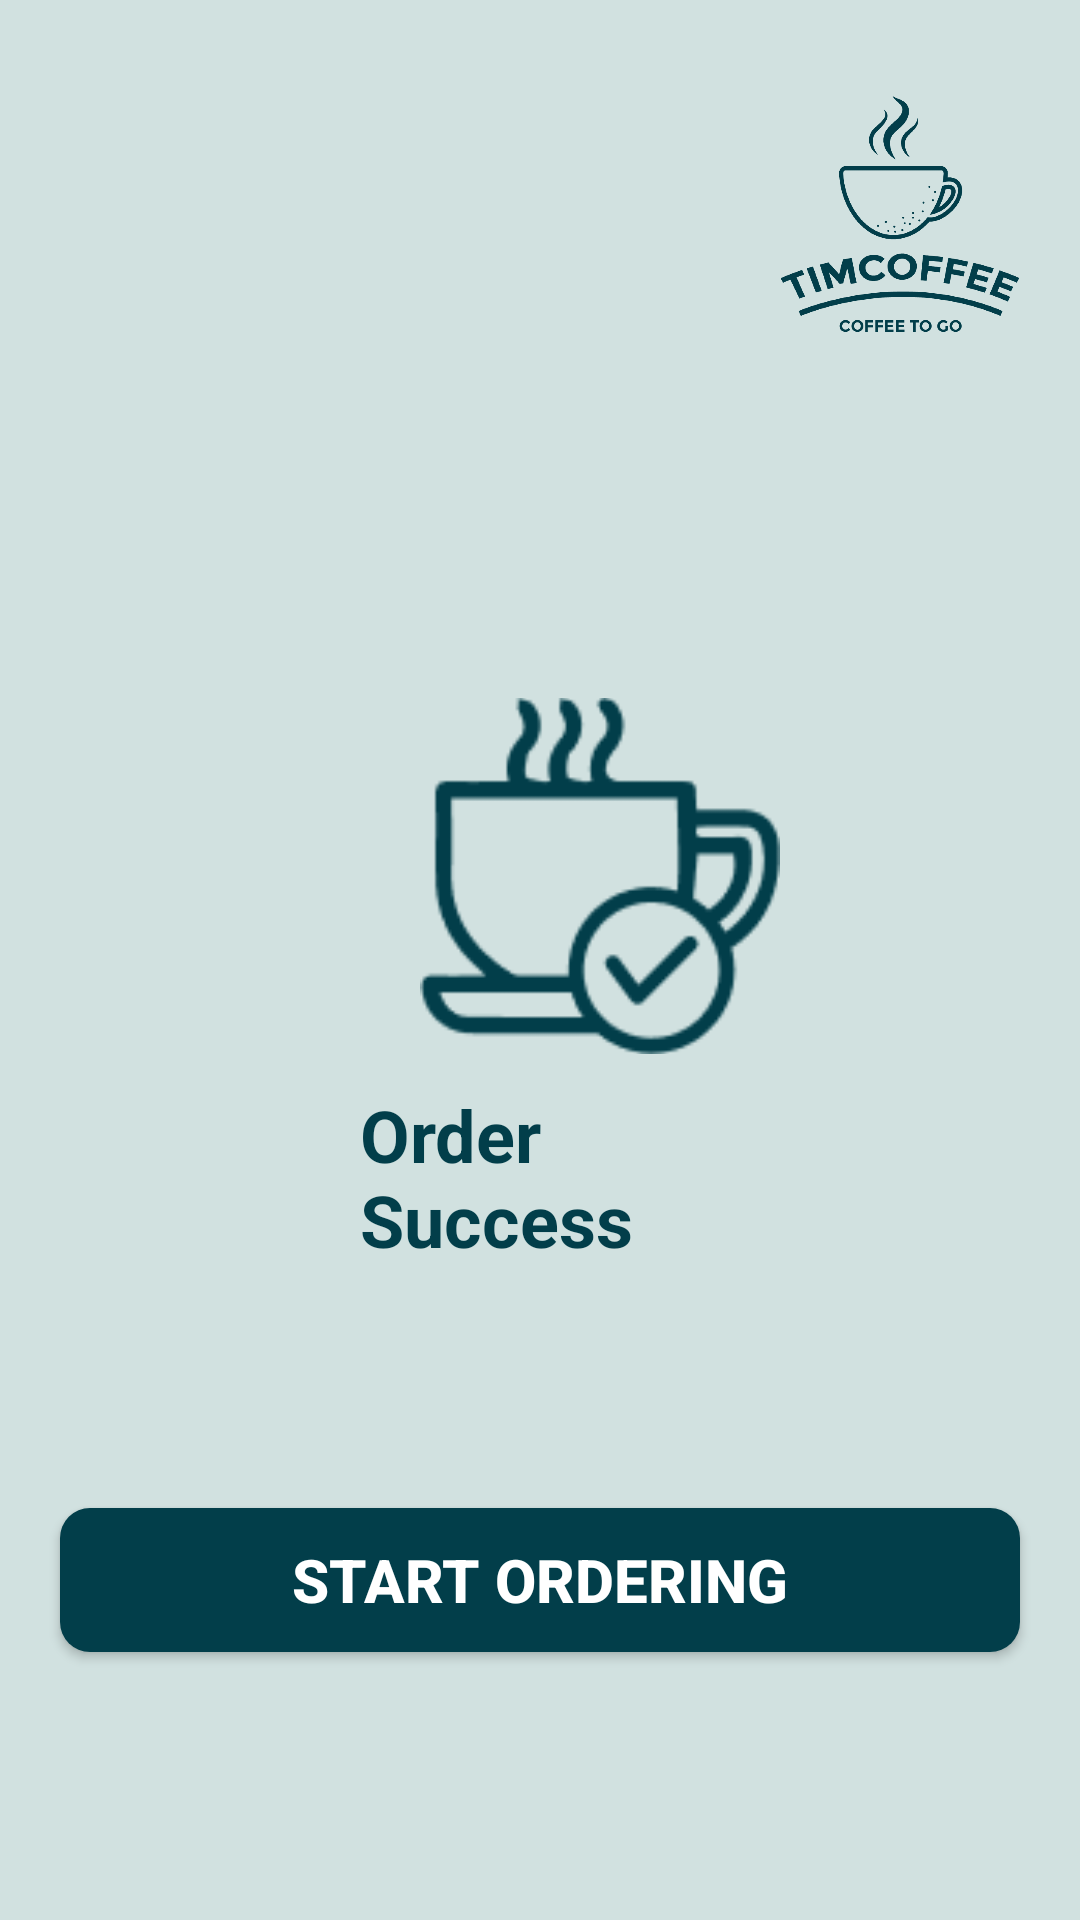

Screen size 1080*1920. Icon name, then its center in pixels as (x,y):
sucsess: (600,876)
